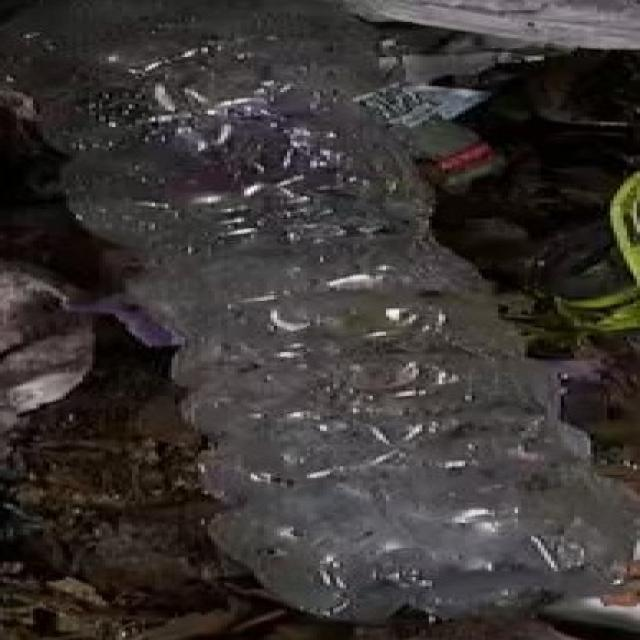litter: (4, 0, 640, 624)
